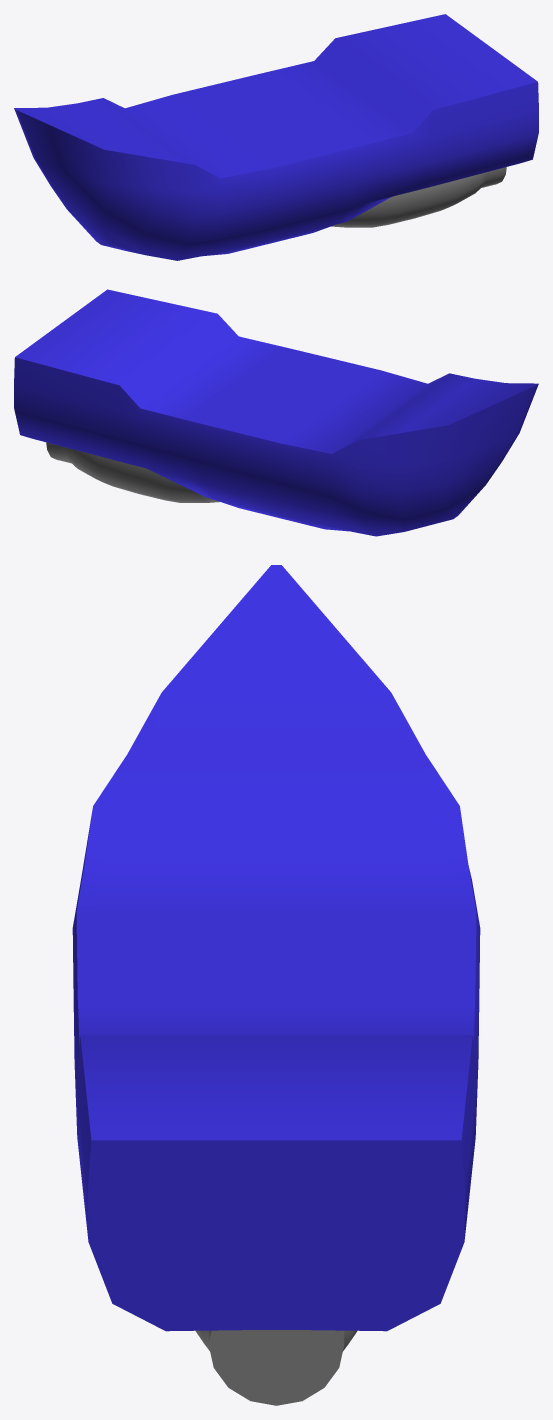
Rendered from DriftBoathull.fbx.
The picture shows the model from 3 angles, top to bottom: view 1: azimuth 30°, elevation 25°; view 2: azimuth 150°, elevation 25°; view 3: azimuth 270°, elevation 25°; orthographic projection. The views are drawn at different scales.
Parts seen in each view (by area): view 1: Cylinder.001; view 2: Cylinder.001; view 3: Cylinder.001.
Boxes of the visible parts, x1,y1,x2,y2 form: Cylinder.001: (14,14,538,260); Cylinder.001: (14,289,538,536); Cylinder.001: (72,565,480,1405).
Size of the model in its own units: 174 by 70.1 by 64.35.
